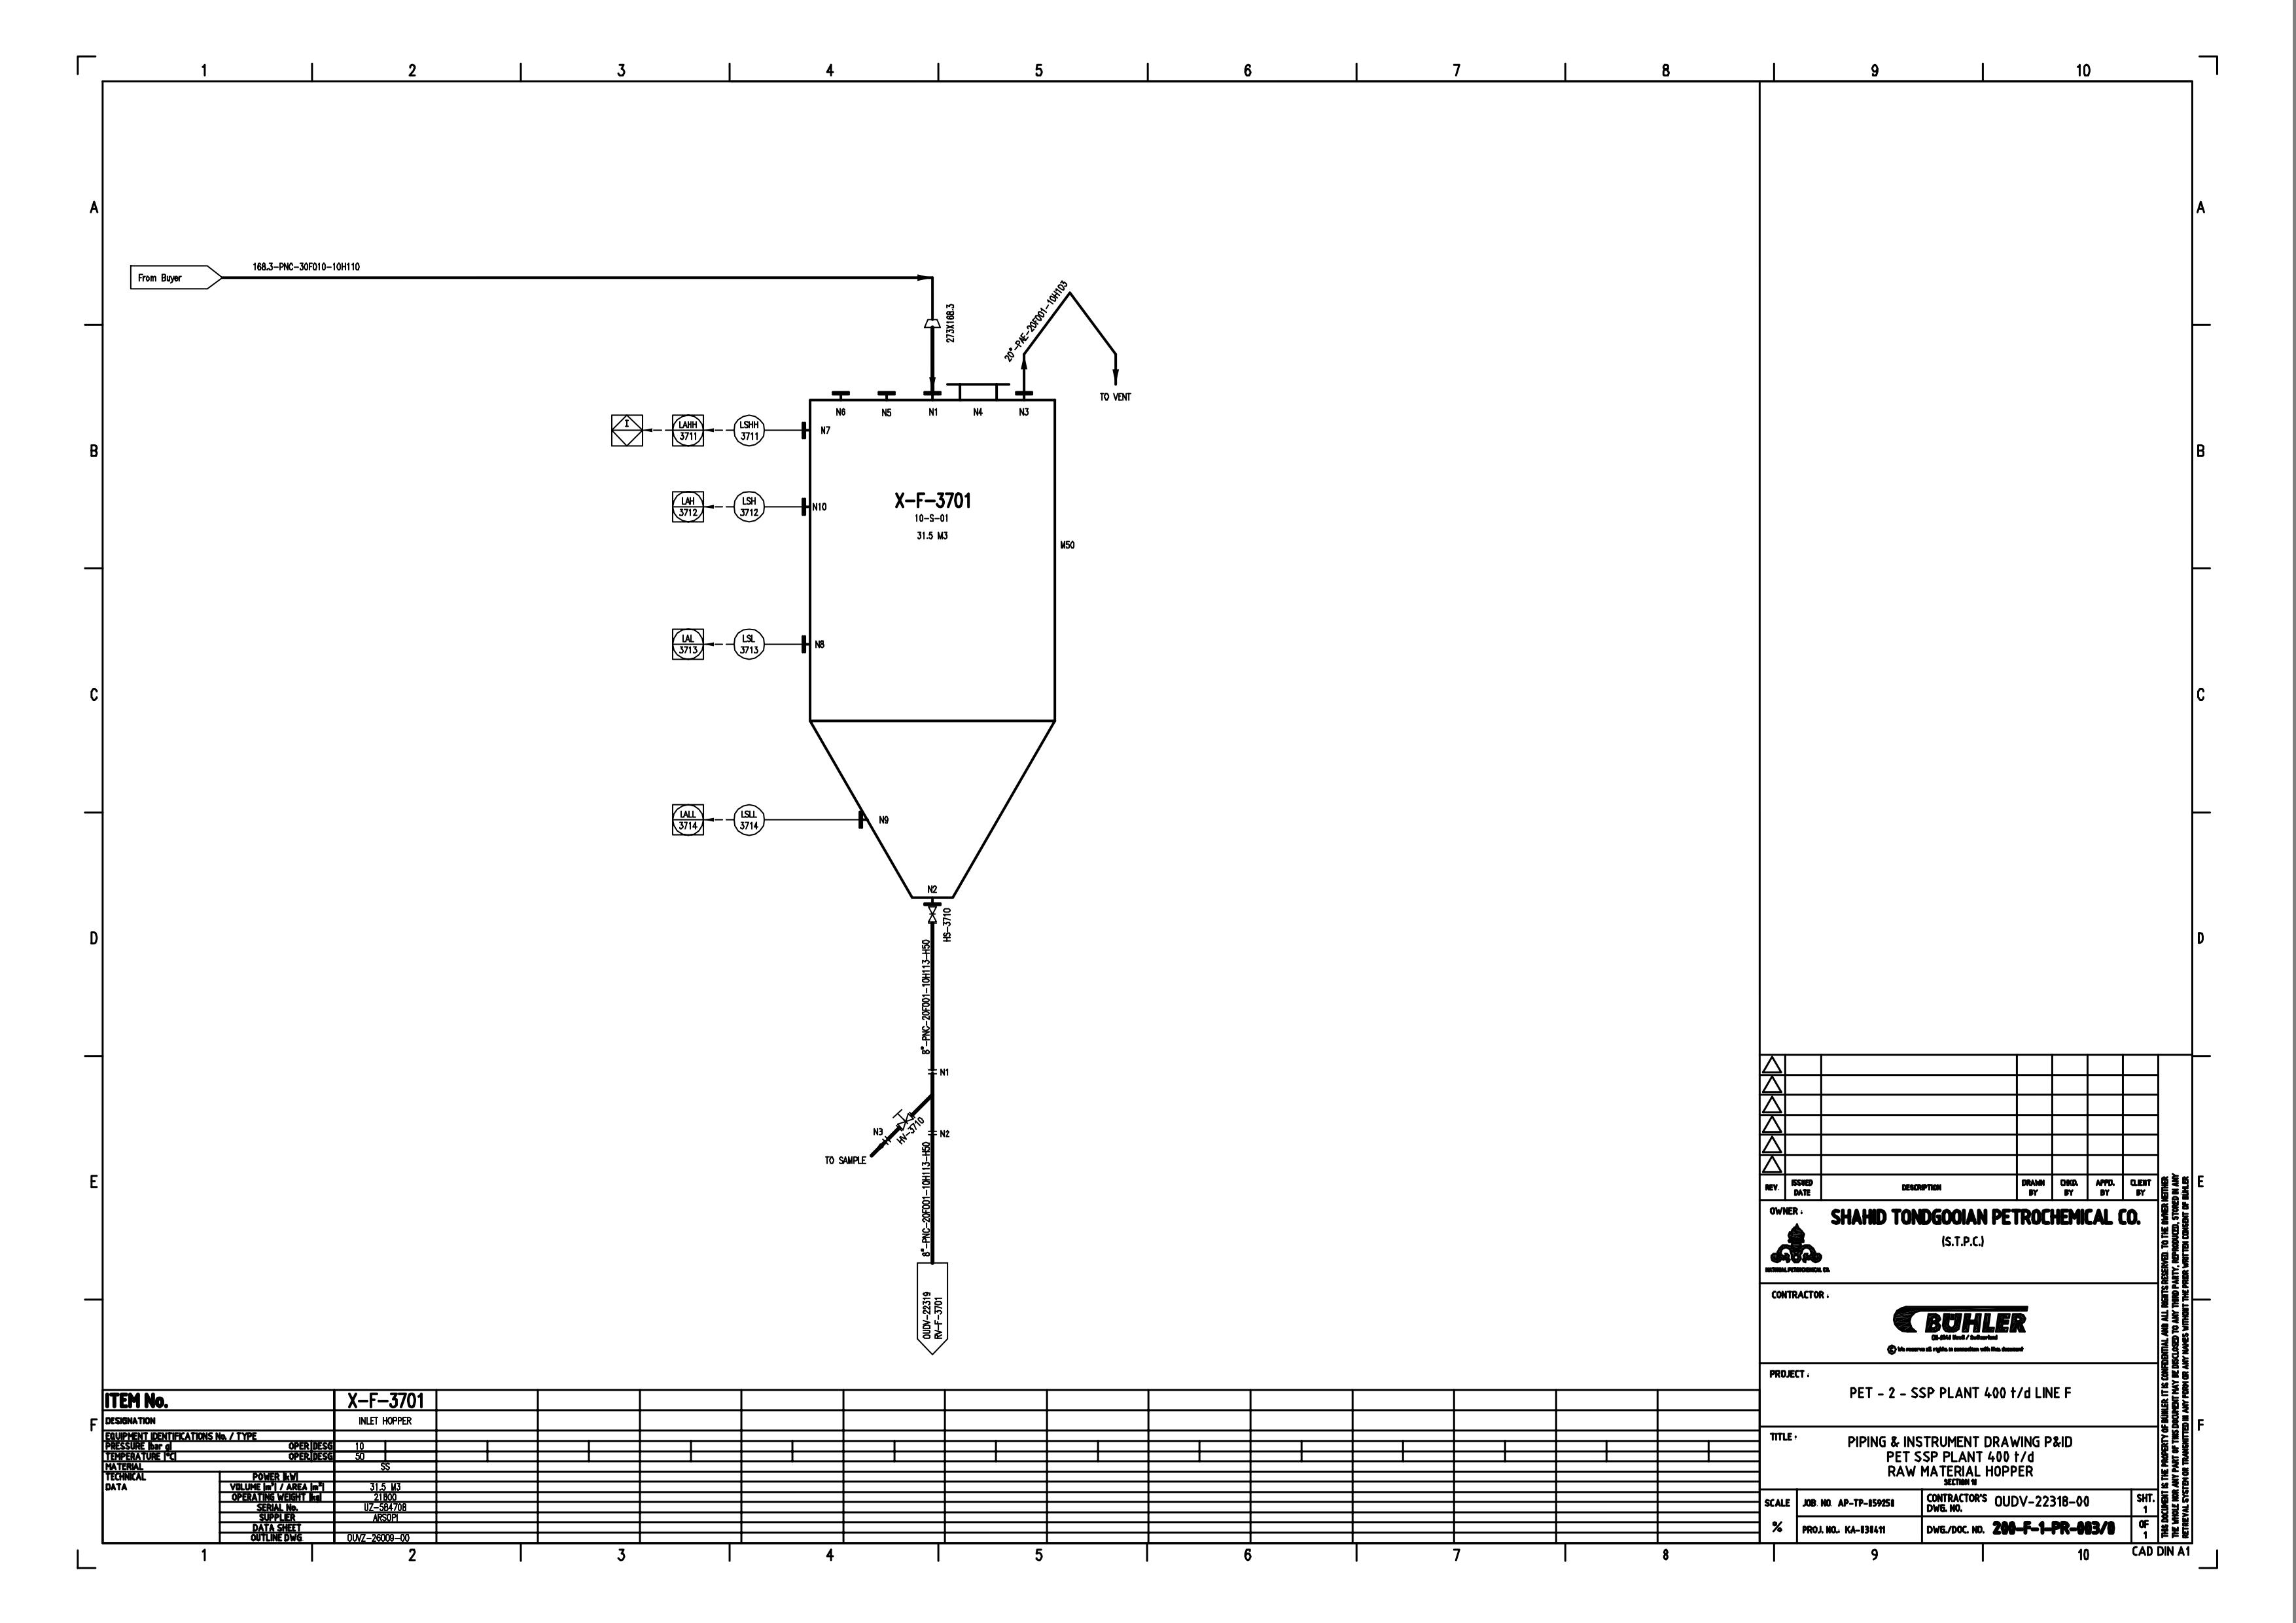CS: (923, 906, 941, 923)
HV: (892, 1109, 915, 1132)
SP: (922, 316, 941, 332)
X: (807, 394, 1057, 900)
